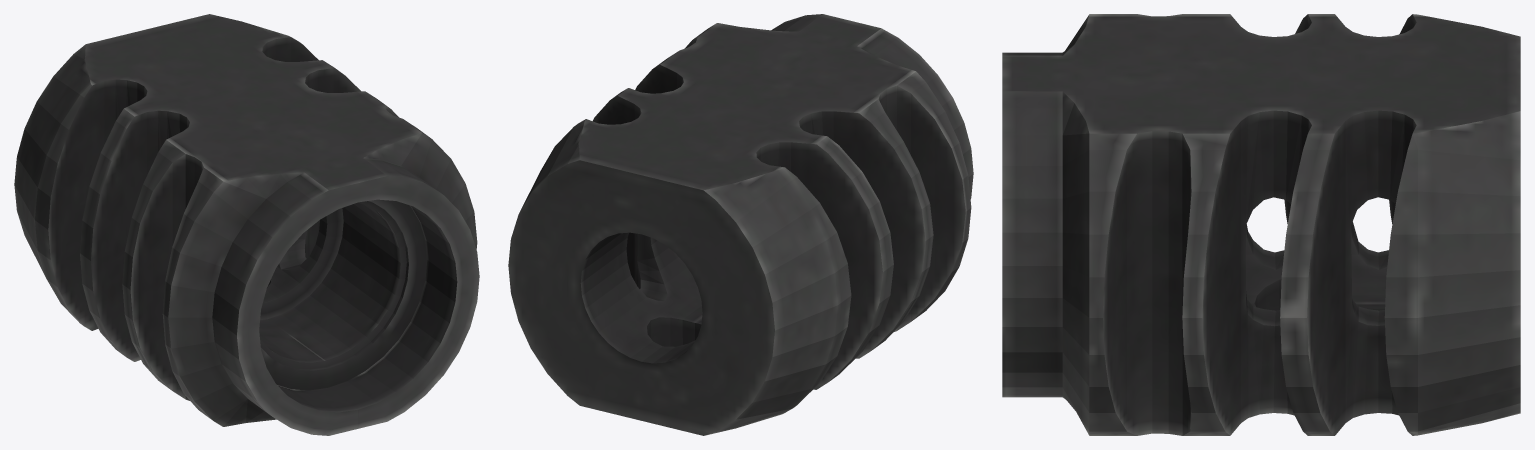
The picture shows the model from 3 angles, left to right: view 1: azimuth 30°, elevation 25°; view 2: azimuth 150°, elevation 25°; view 3: azimuth 270°, elevation 25°; orthographic projection. The views are drawn at different scales.
Visible parts, largest first — view 1: TW_5a7ad1fb51dfba0013379715_PZ_Import; view 2: TW_5a7ad1fb51dfba0013379715_PZ_Import; view 3: TW_5a7ad1fb51dfba0013379715_PZ_Import.
Part boxes in pixels (x1=…): TW_5a7ad1fb51dfba0013379715_PZ_Import: x1=14, y1=14, x2=479, y2=435; TW_5a7ad1fb51dfba0013379715_PZ_Import: x1=508, y1=14, x2=973, y2=435; TW_5a7ad1fb51dfba0013379715_PZ_Import: x1=1002, y1=14, x2=1520, y2=435.
Bounding box in the file's own units: 0.0135 × 0.0159 × 0.0102.
Materials: 1 (1 with a texture image).
